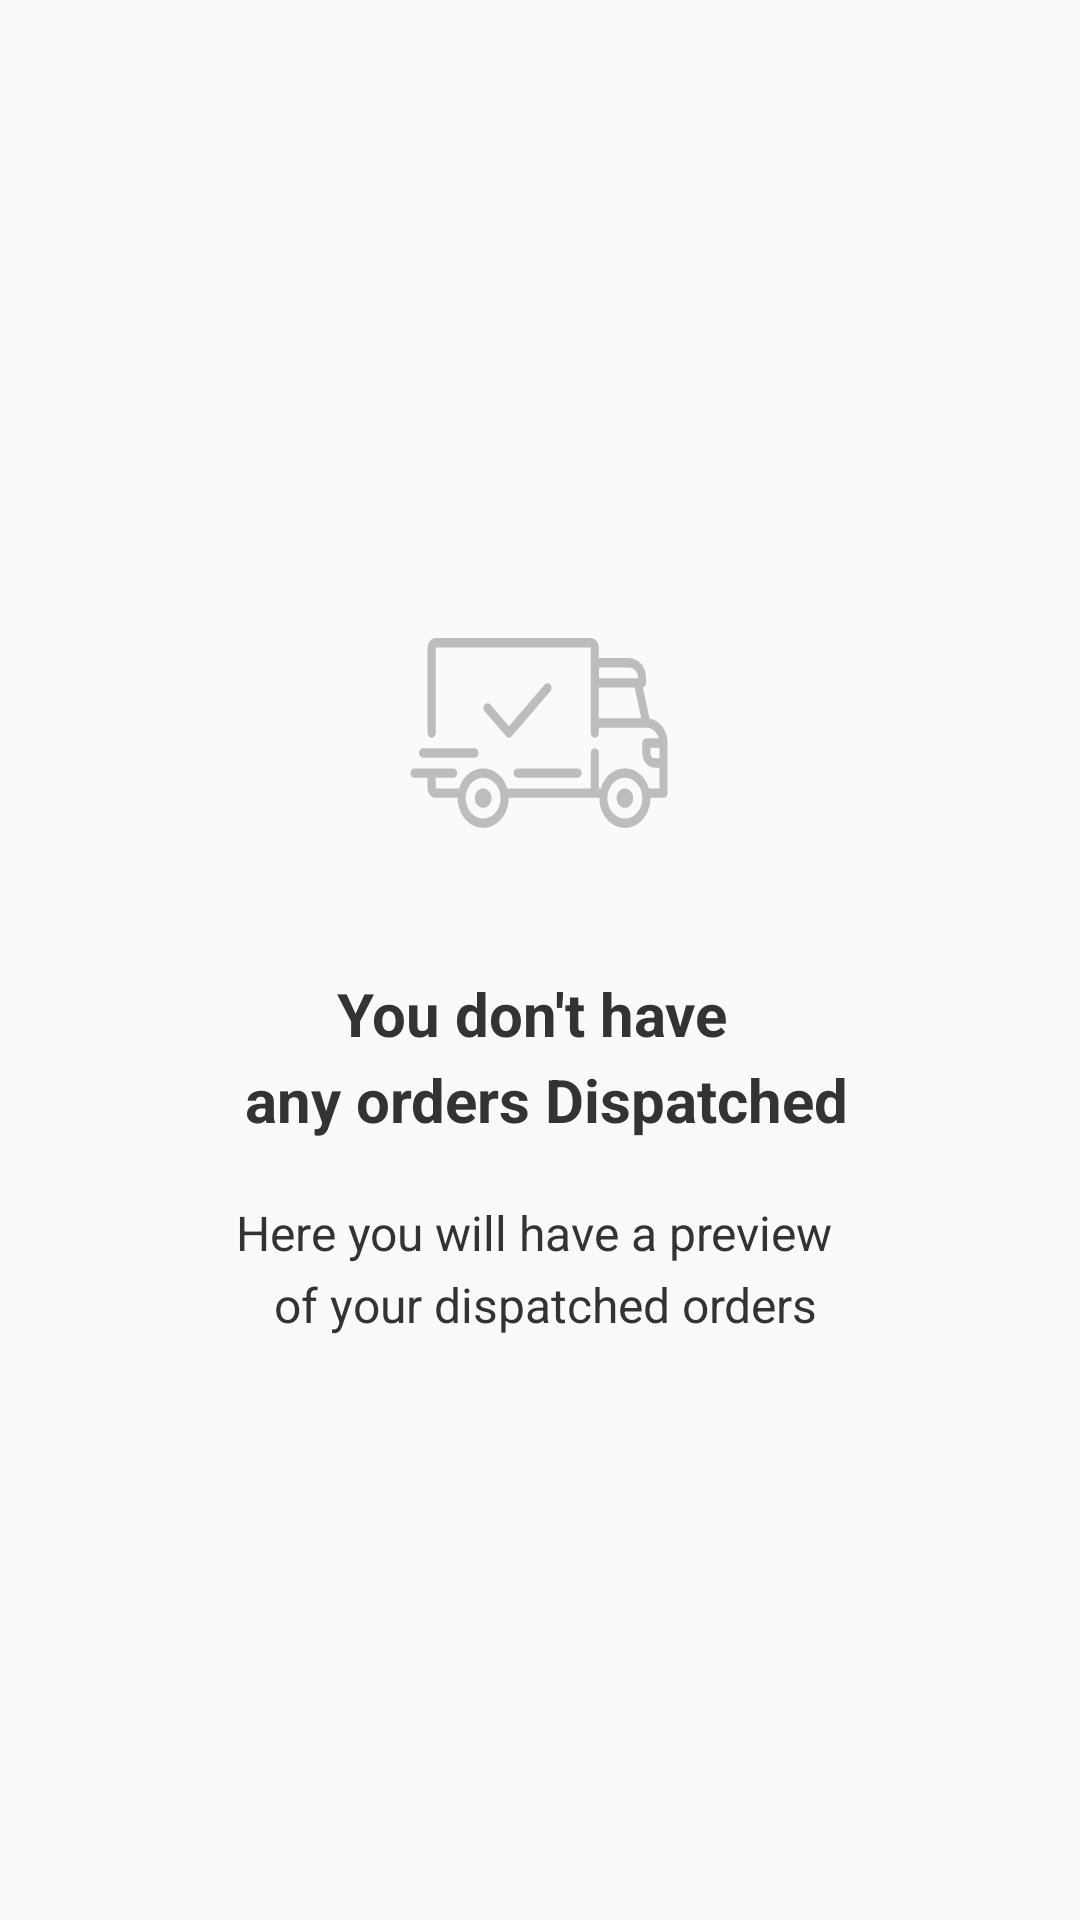

Icon click points for this 1080x1920 phone screenshot, format point (x, y):
order dispatch empty: point (539, 733)
